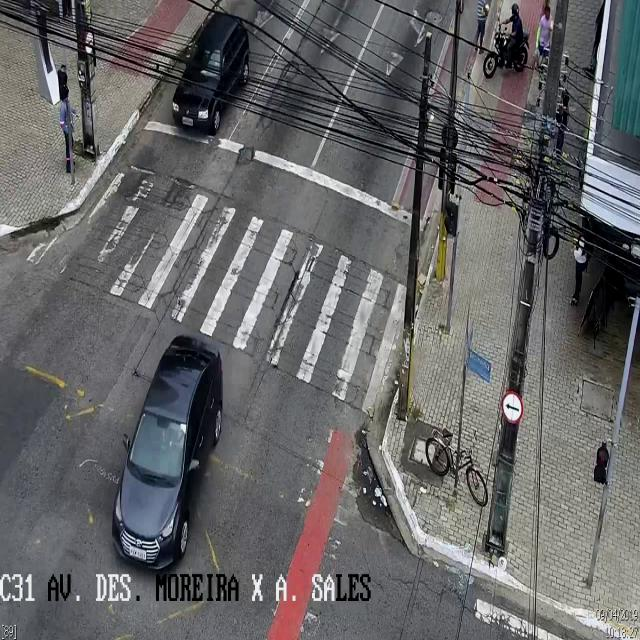Car: (112, 334, 224, 572), (172, 9, 248, 137)
Motorcycle: (483, 3, 530, 77)
